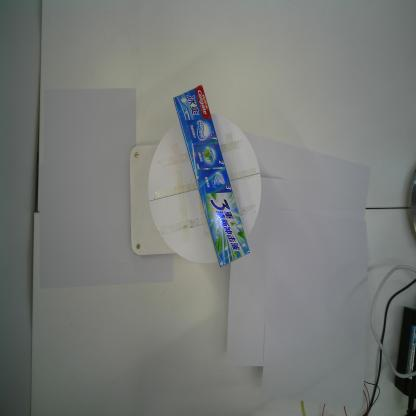Personal Hygiene: (173, 84, 251, 268)
